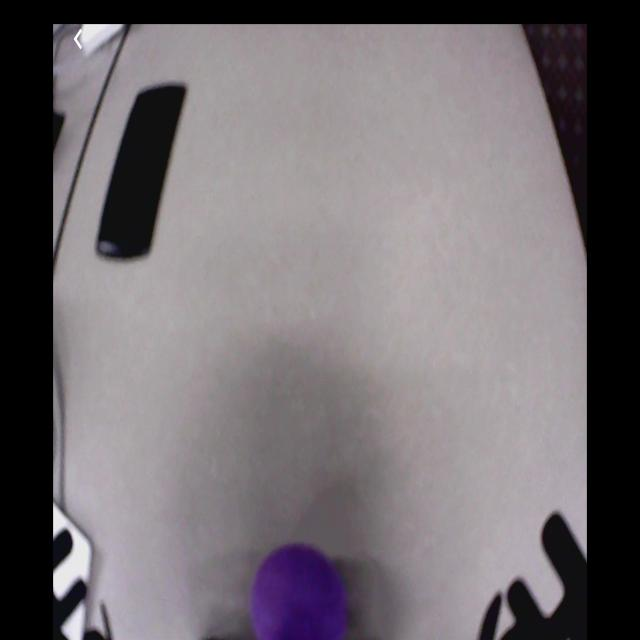ball: (250, 547, 349, 640)
